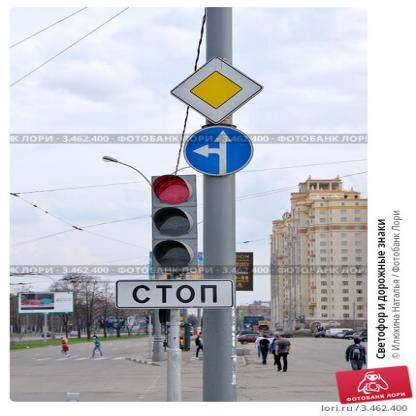road_sign: (170, 57, 262, 124), (184, 125, 254, 176), (116, 280, 234, 308)
traffic light: (151, 175, 197, 274)
